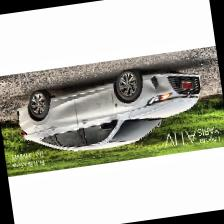NON-EV: (15, 62, 209, 163)
